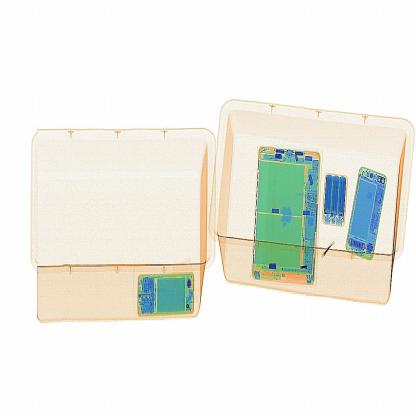wrench: (320, 235, 340, 270)
